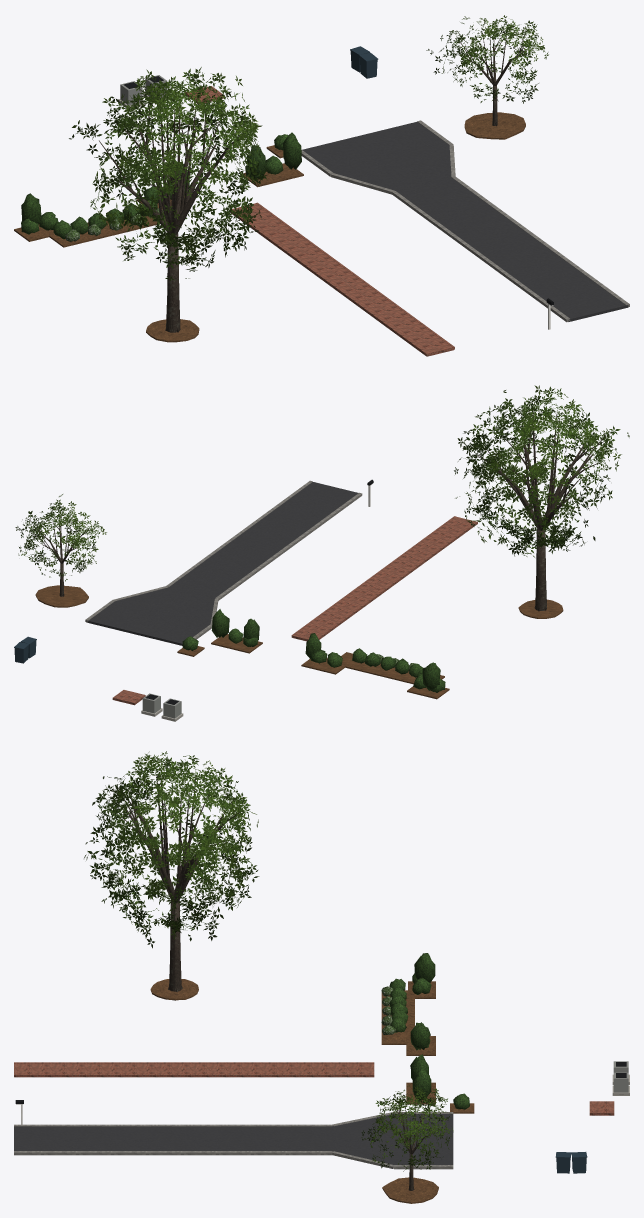
File: thompson-house-lot.glb
The picture shows the model from 3 angles, top to bottom: view 1: azimuth 30°, elevation 25°; view 2: azimuth 150°, elevation 25°; view 3: azimuth 270°, elevation 25°; orthographic projection. The views are drawn at different scales.
Parts seen in each view (by area): view 1: Lot_Hardscape, Tree_Shade_1, Lot_Beds, Tree_Dogwood_1, Lot_Props; view 2: Lot_Hardscape, Tree_Shade_1, Lot_Beds, Tree_Dogwood_1, Lot_Props; view 3: Lot_Hardscape, Tree_Shade_1, Lot_Beds, Tree_Dogwood_1, Lot_Props.
Part boxes in pixels (x1,y1,x2,y2): Lot_Hardscape: [185, 86, 629, 356]; Tree_Shade_1: [69, 67, 271, 332]; Lot_Beds: [14, 112, 525, 342]; Tree_Dogwood_1: [426, 15, 548, 126]; Lot_Props: [118, 46, 553, 329]; Lot_Hardscape: [85, 480, 477, 705]; Tree_Shade_1: [454, 385, 629, 611]; Lot_Beds: [35, 585, 563, 699]; Tree_Dogwood_1: [15, 494, 106, 596]; Lot_Props: [14, 479, 373, 721]; Lot_Hardscape: [14, 1062, 614, 1169]; Tree_Shade_1: [84, 751, 259, 1000]; Lot_Beds: [150, 953, 474, 1203]; Tree_Dogwood_1: [361, 1085, 453, 1190]; Lot_Props: [15, 1061, 629, 1173].
Size of the model in its own units: 35.01 by 15.39 by 35.23.
Materials: 14 (10 with a texture image).
